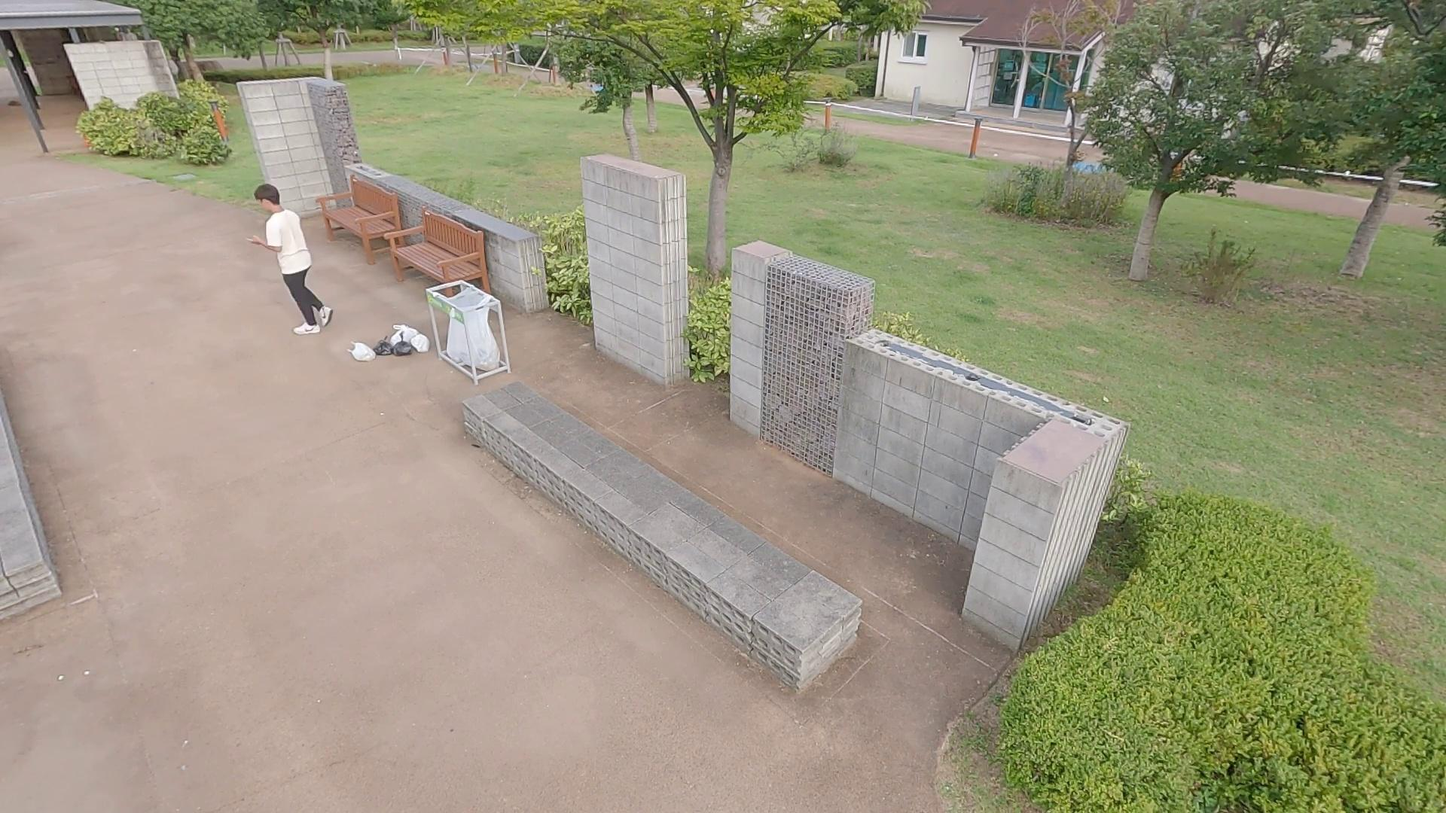person: (245, 181, 334, 336)
trash: (387, 324, 422, 350), (346, 339, 377, 363), (392, 330, 413, 357), (372, 335, 394, 357), (411, 330, 429, 354)
